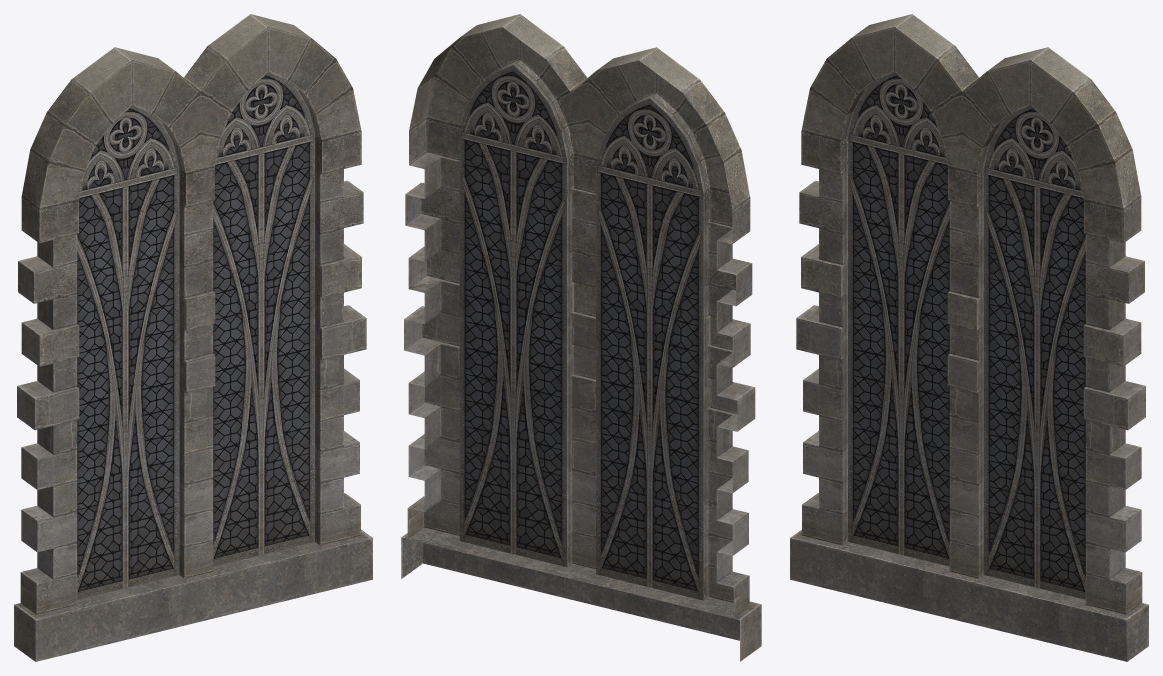
The model's file is bg_lut_lucastle_housewindow03_sm_sup.FBX.
3 renders of one model, left to right at view 1: azimuth 30°, elevation 25°; view 2: azimuth 150°, elevation 25°; view 3: azimuth 330°, elevation 25°, orthographic.
Visible parts, largest first — view 1: bg_lut_lucastle_housewindow03_sm_sup; view 2: bg_lut_lucastle_housewindow03_sm_sup; view 3: bg_lut_lucastle_housewindow03_sm_sup.
Boxes of the visible parts, x1,y1,x2,y2 form: bg_lut_lucastle_housewindow03_sm_sup: (14,14,372,661); bg_lut_lucastle_housewindow03_sm_sup: (401,14,761,661); bg_lut_lucastle_housewindow03_sm_sup: (790,14,1148,661).
Size of the model in its own units: 147 by 239 by 16.27.
